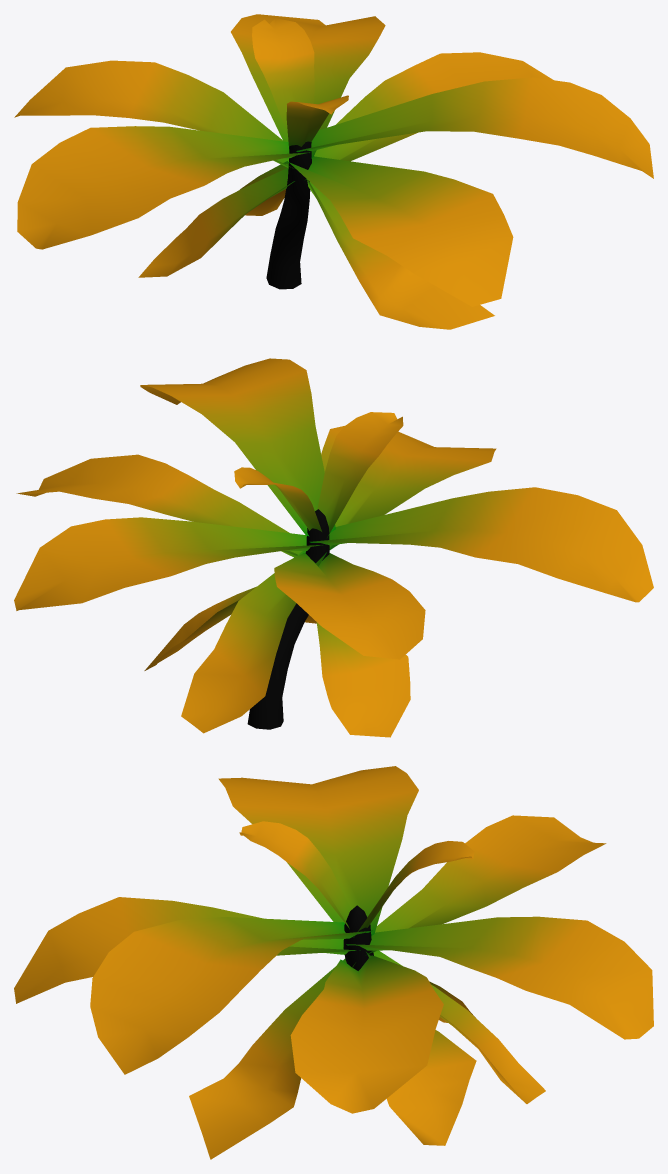
File: Var3_LOD0.fbx
The picture shows the model from 3 angles, top to bottom: view 1: azimuth 30°, elevation 25°; view 2: azimuth 150°, elevation 25°; view 3: azimuth 270°, elevation 25°; orthographic projection. The views are drawn at different scales.
Parts seen in each view (by area): view 1: _b40c_Var3_LOD0; view 2: _b40c_Var3_LOD0; view 3: _b40c_Var3_LOD0.
Part boxes in pixels (x1,y1,x2,y2): _b40c_Var3_LOD0: (14,14,653,329); _b40c_Var3_LOD0: (14,358,653,737); _b40c_Var3_LOD0: (14,766,653,1159).
Size of the model in its own units: 43.95 by 17.88 by 38.78.
